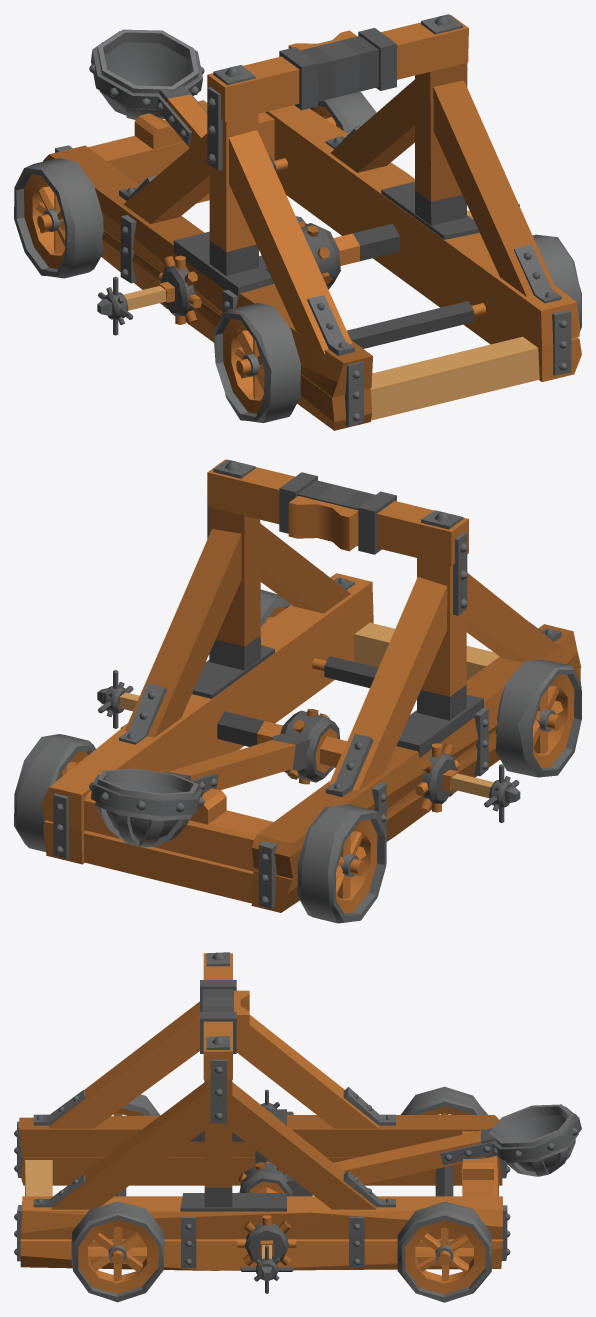
File: Catapult.fbx
3 renders of one model, top to bottom at view 1: azimuth 30°, elevation 25°; view 2: azimuth 150°, elevation 25°; view 3: azimuth 270°, elevation 25°, orthographic. The views are drawn at different scales.
Parts seen in each view (by area): view 1: Catapult; view 2: Catapult; view 3: Catapult.
Boxes of the visible parts, x1=… form: Catapult: x1=14, y1=14, x2=581, y2=430; Catapult: x1=14, y1=459, x2=581, y2=923; Catapult: x1=14, y1=952, x2=581, y2=1302.
Bounding box in the file's own units: 338 × 228 × 480.
